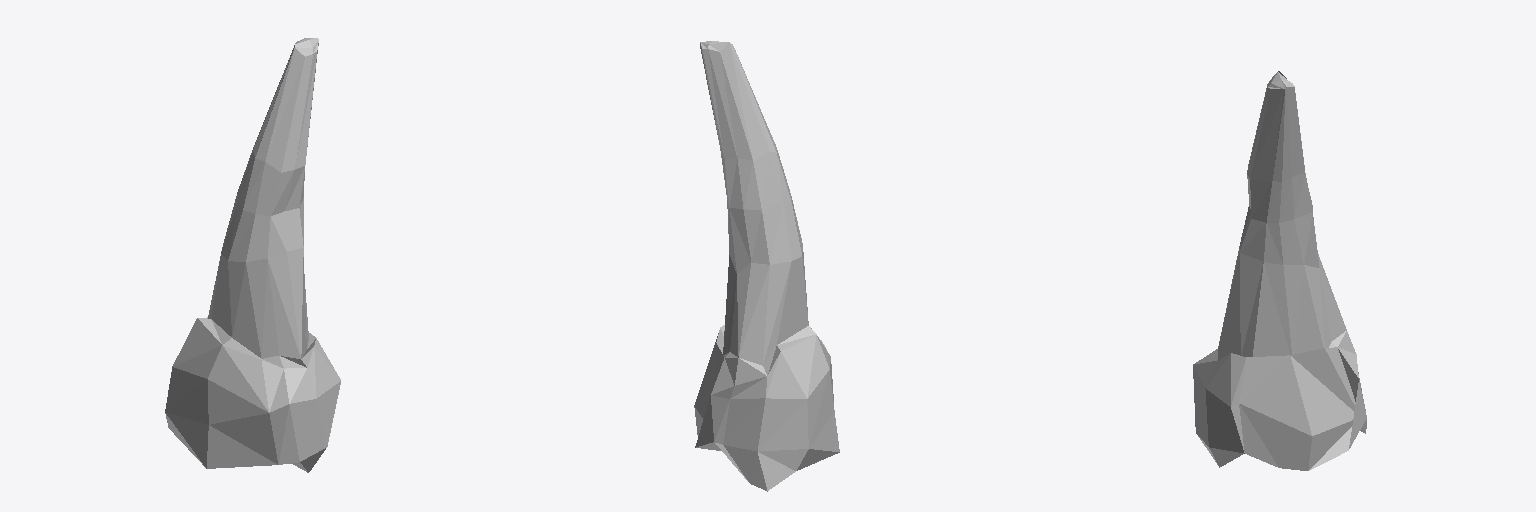
File: Upper_Premolar_Left_01.obj
The picture shows the model from 3 angles: view 1: azimuth 30°, elevation 25°; view 2: azimuth 150°, elevation 25°; view 3: azimuth 270°, elevation 25°; orthographic projection.
Parts seen in each view (by area): view 1: Upper_Premolar_Left_01 Upper_Teeth Teeth group1; view 2: Upper_Premolar_Left_01 Upper_Teeth Teeth group1; view 3: Upper_Premolar_Left_01 Upper_Teeth Teeth group1.
Part boxes in pixels (bbox=[...]): Upper_Premolar_Left_01 Upper_Teeth Teeth group1: bbox=[165, 38, 340, 472]; Upper_Premolar_Left_01 Upper_Teeth Teeth group1: bbox=[694, 41, 839, 491]; Upper_Premolar_Left_01 Upper_Teeth Teeth group1: bbox=[1193, 71, 1366, 470].
Bounding box in the file's own units: 0.0944 × 0.2801 × 0.108.